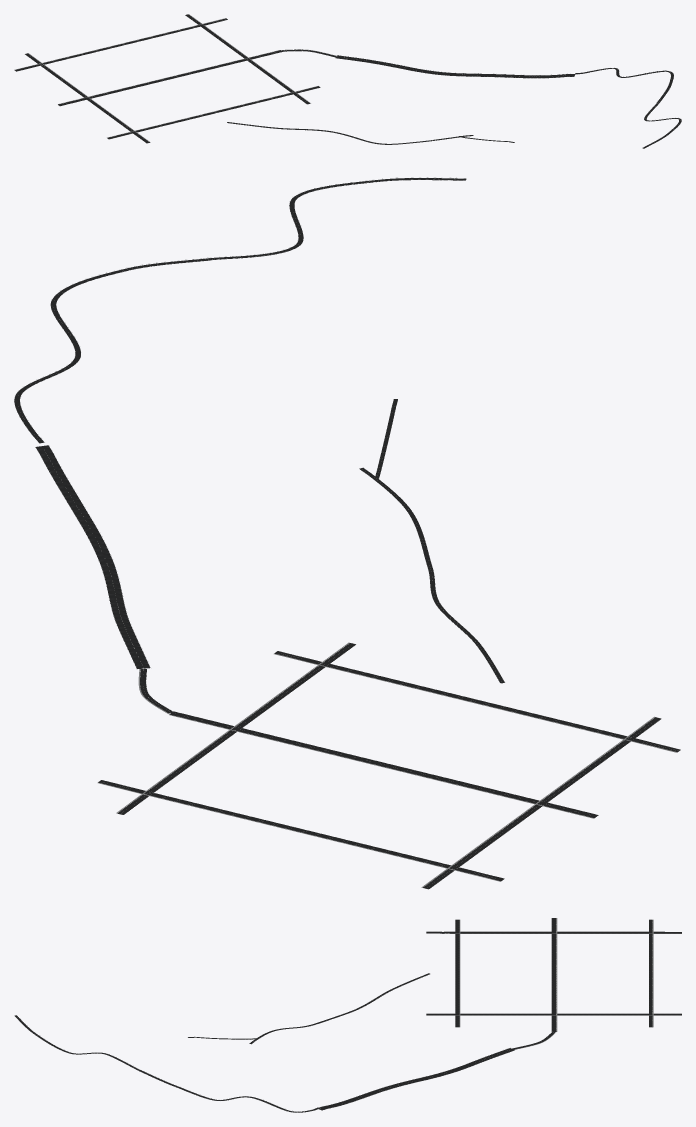
The model's file is roads.glb.
3 views of the same model, one above another, from view 1: azimuth 30°, elevation 25°; view 2: azimuth 150°, elevation 25°; view 3: azimuth 270°, elevation 25° (orthographic). The views are drawn at different scales.
Visible parts, largest first — view 1: roads, sidewalks; view 2: roads, sidewalks; view 3: roads, sidewalks.
Part boxes in pixels (x1,y1,x2,y2): roads: (14, 14, 681, 148); sidewalks: (14, 14, 336, 142); roads: (14, 178, 680, 889); sidewalks: (97, 642, 676, 887); roads: (14, 918, 681, 1112); sidewalks: (426, 918, 681, 1049).
Bounding box in the file's own units: 1566 × 232 × 1934.
4 materials, 2 textured.
